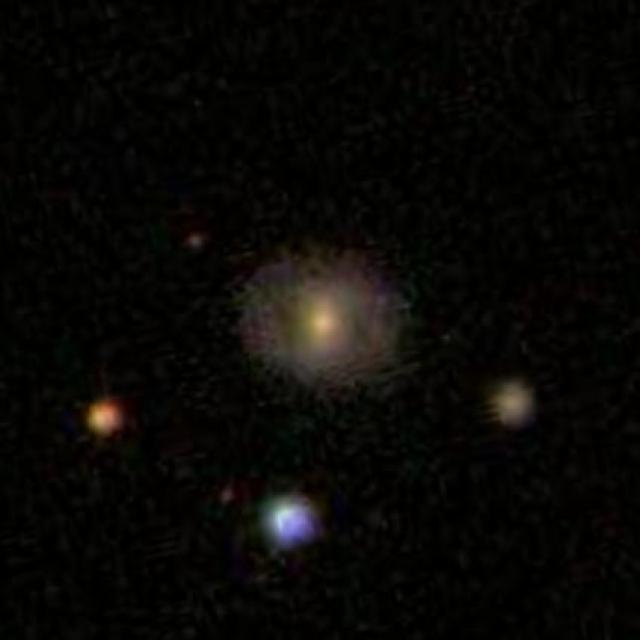galaxy: (231, 240, 424, 404), (257, 485, 326, 555), (486, 375, 544, 433), (83, 393, 132, 446), (184, 230, 207, 253), (216, 485, 237, 503)
